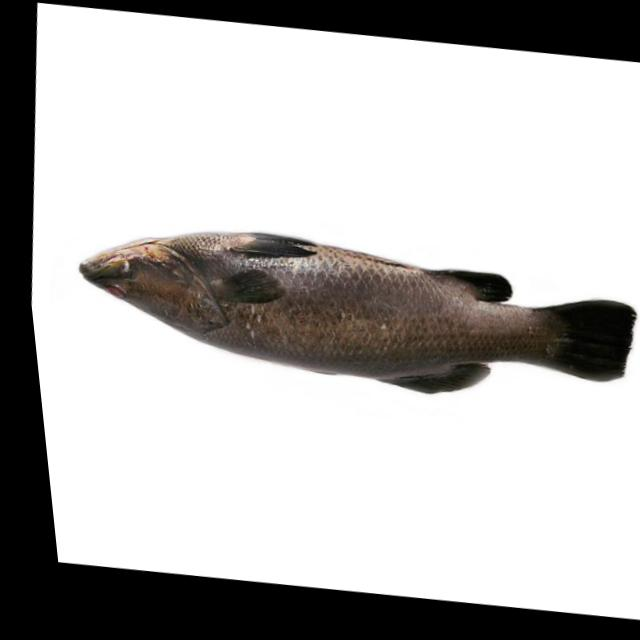Seabass: (59, 203, 640, 427)
